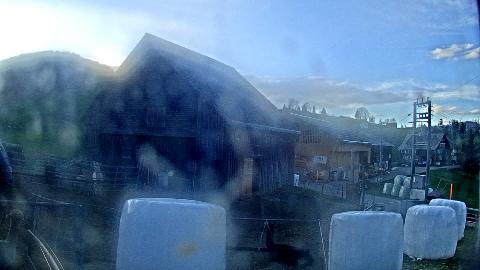car: (418, 162, 426, 166)
sheep: (260, 222, 314, 268), (0, 209, 24, 268), (74, 162, 92, 194), (92, 162, 104, 194), (45, 162, 57, 186)
